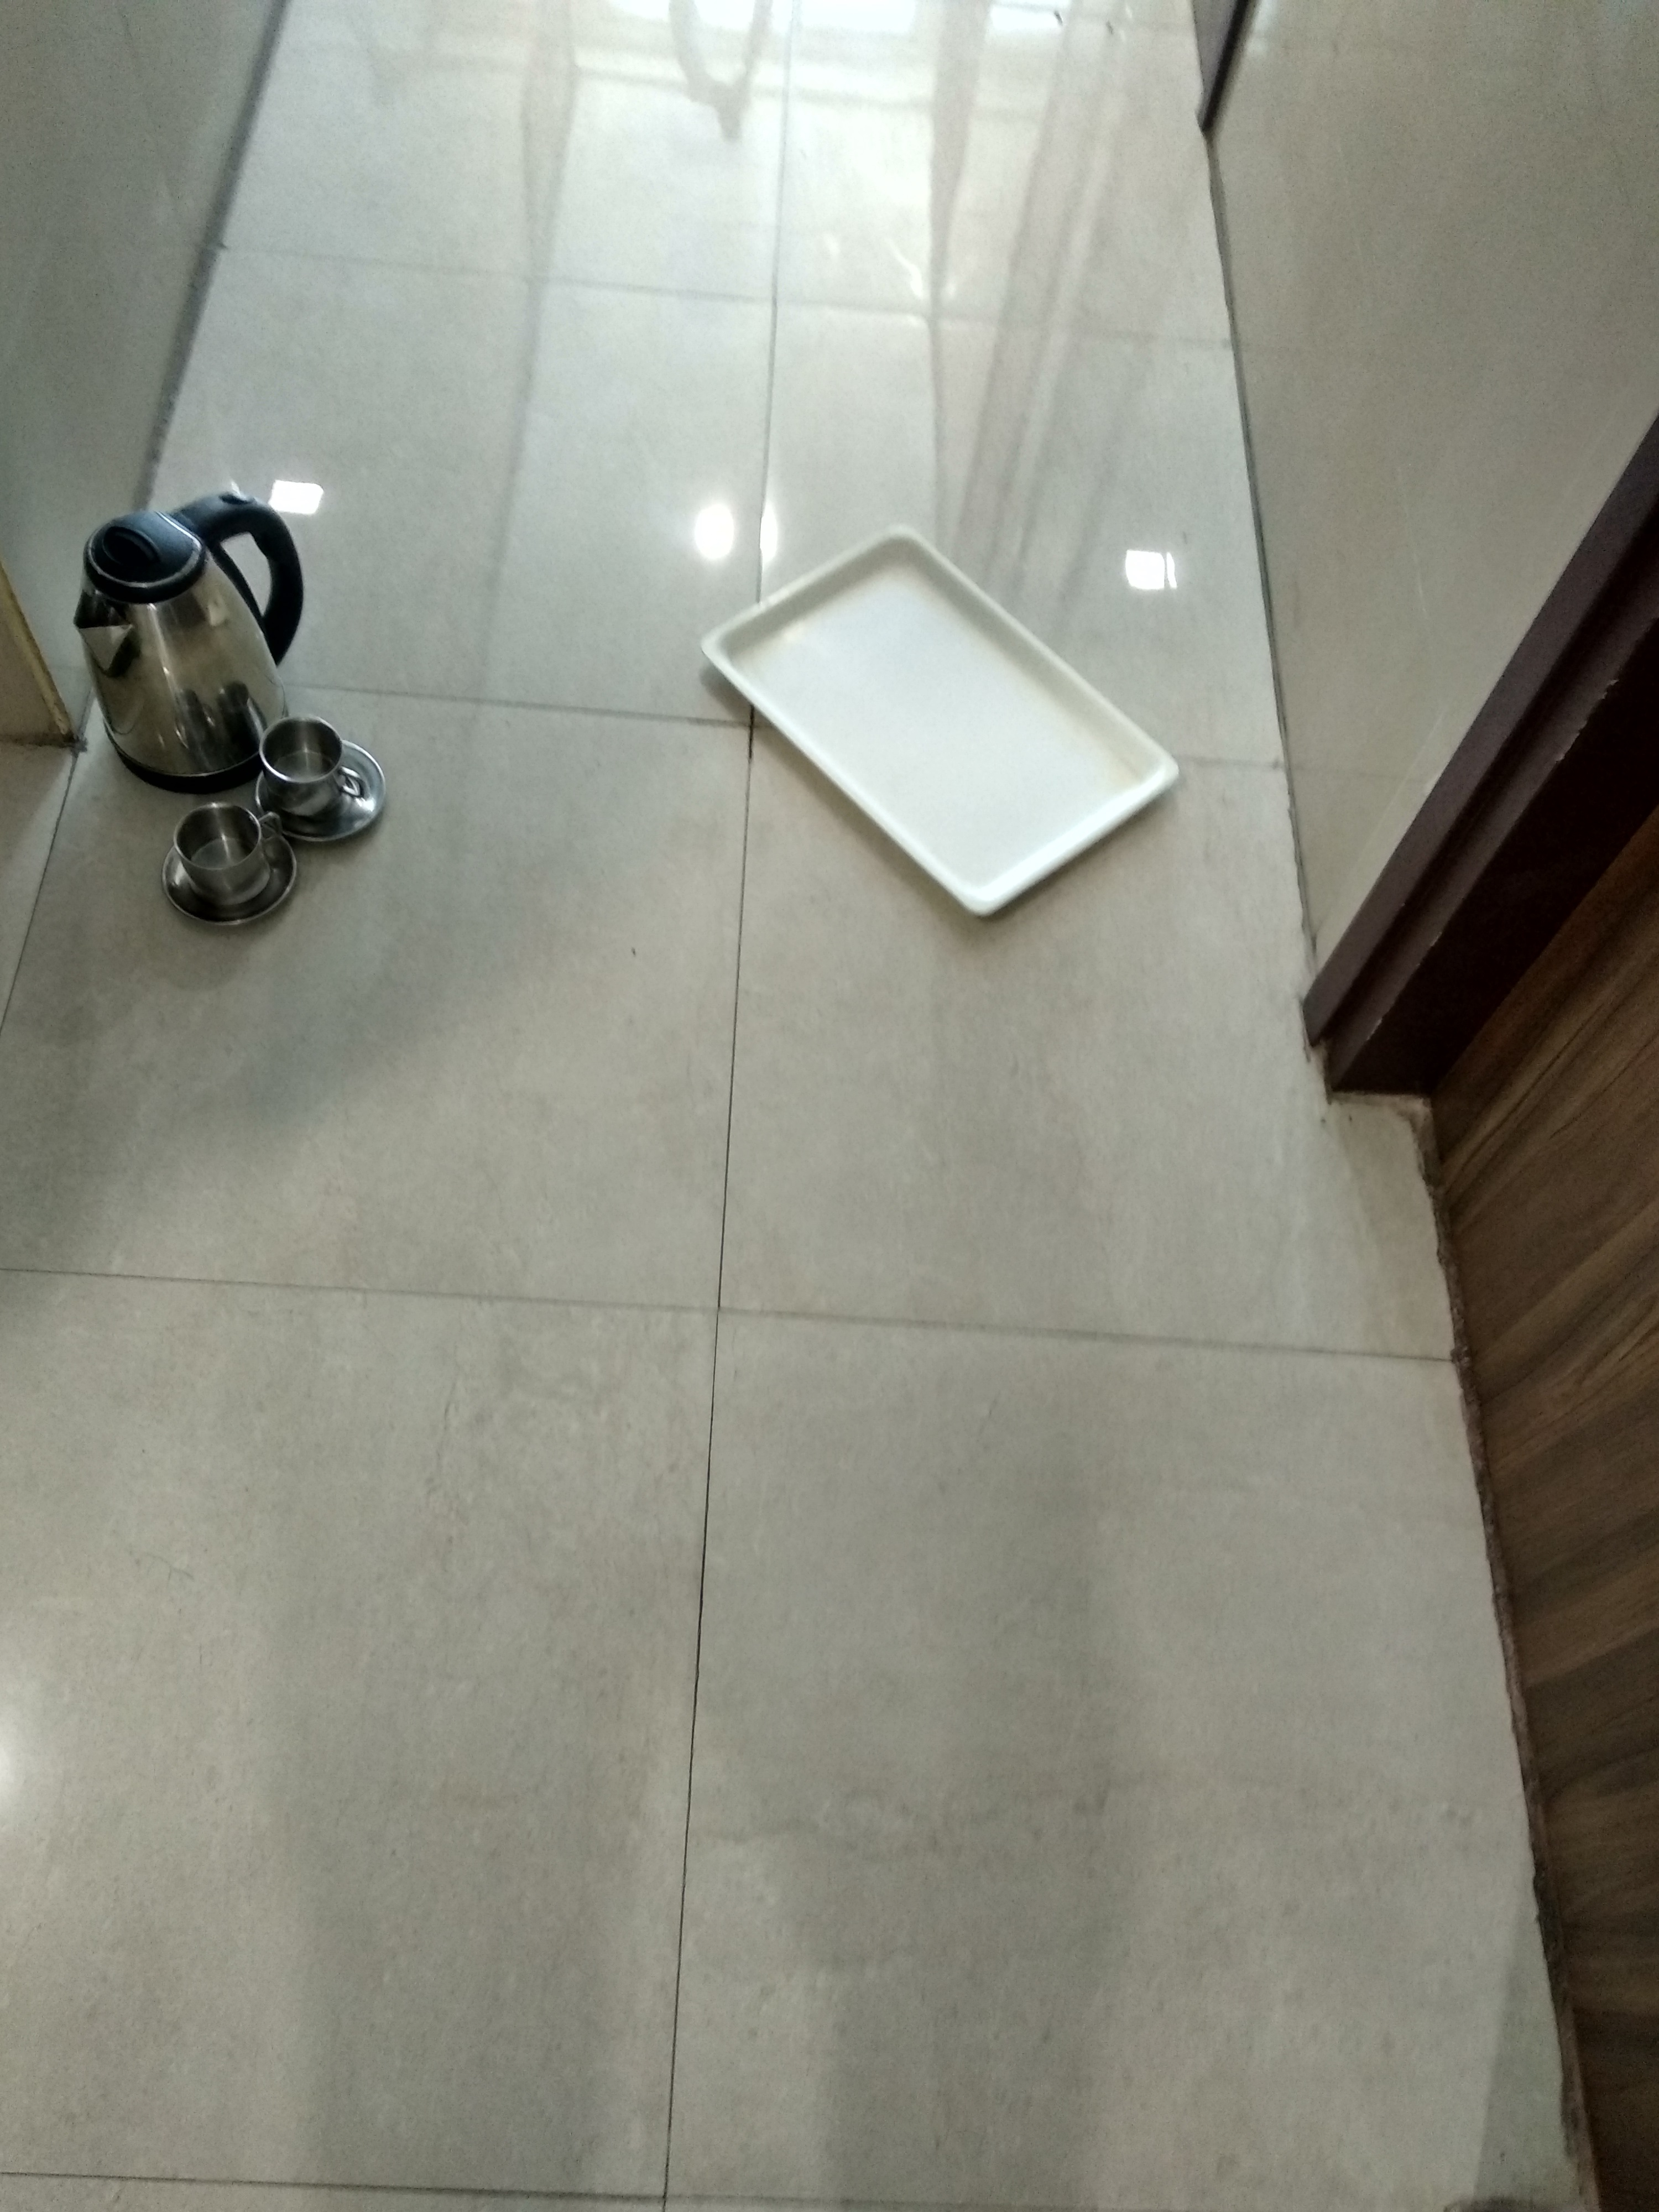CUP: (261, 719, 375, 815), (171, 799, 275, 888)
JUG: (71, 505, 286, 716)
